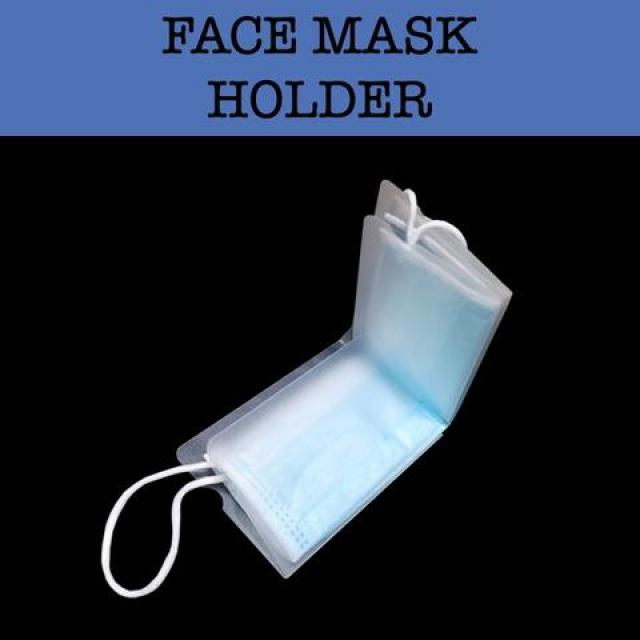non-organic waste: (100, 175, 516, 605)
